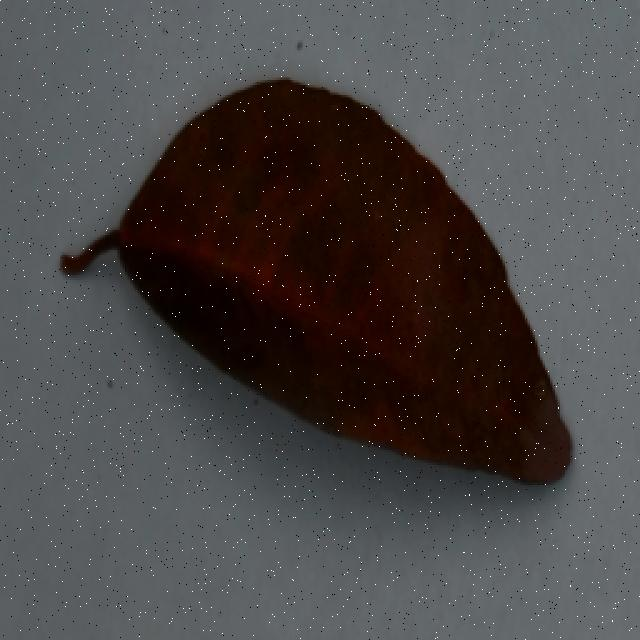greening: (46, 57, 583, 501)
